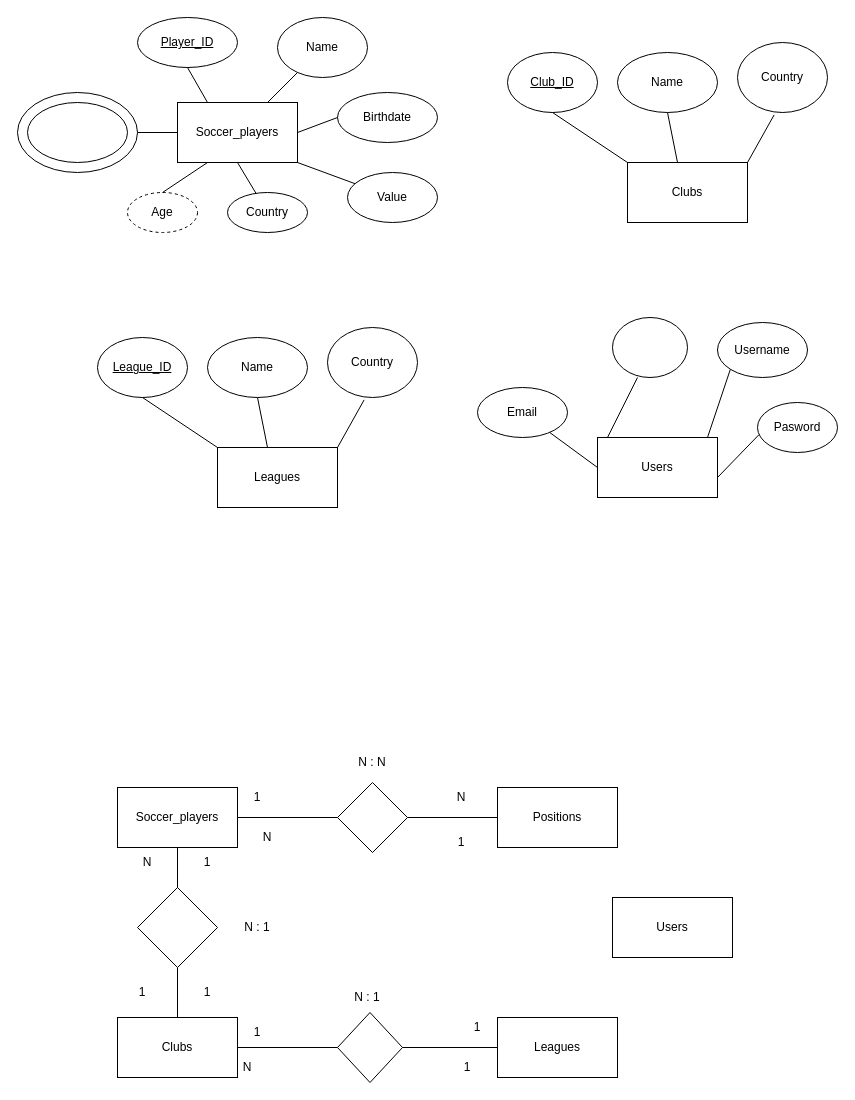
The diagram is 855 pixels wide and 1100 high, and some of its shapes have lost their labels. Here are the shapes that lost their labels. From the top down, the centre of each, then its label:
[77,132]: Position(s)
[650,347]: User_ID
[372,817]: Have
[177,927]: Plays for
[369,1047]: Belong to
